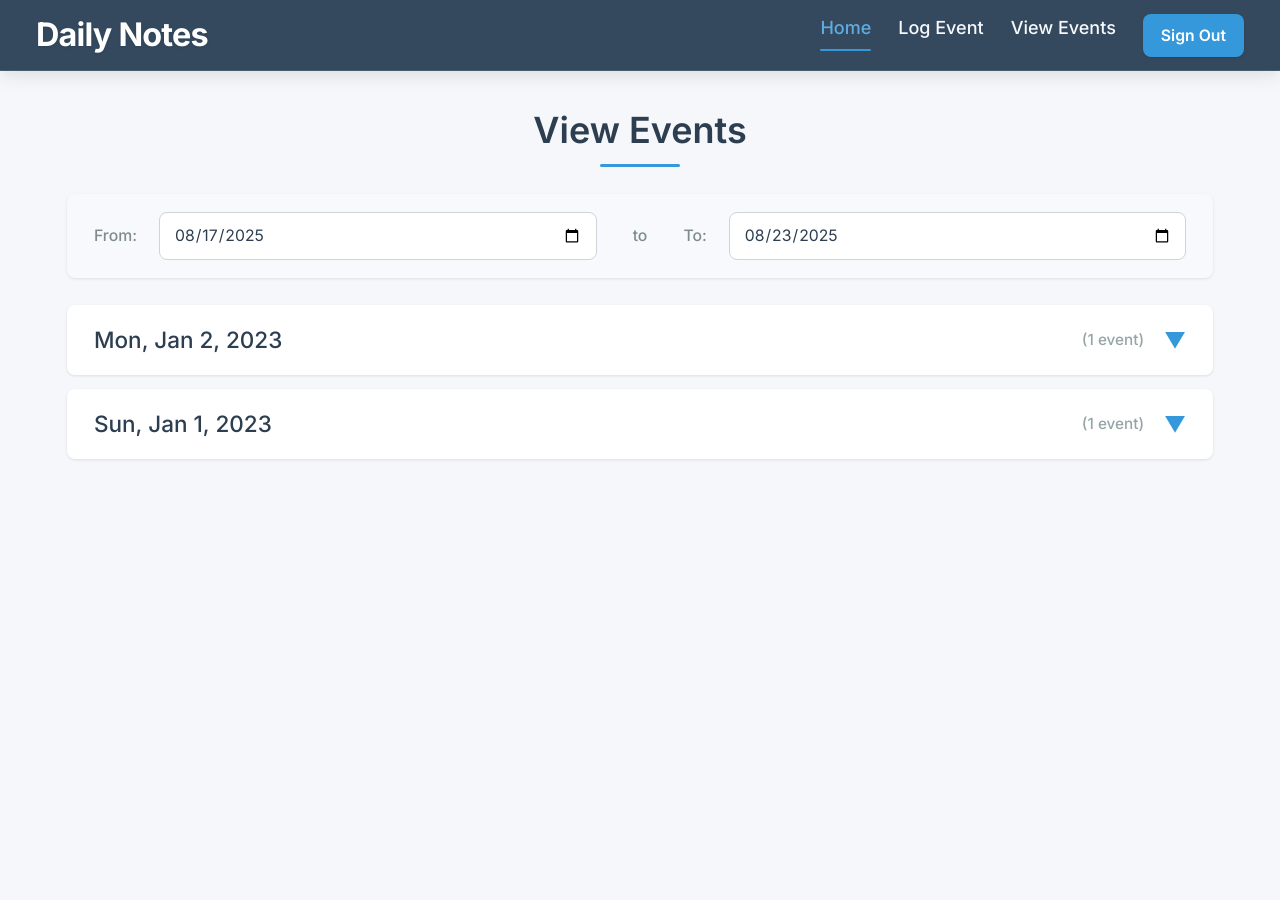
it: fetches and displays events
Click the button "Mon, Jan 2, 2023 (1 event) ▼" at [188, 340], box [67,305,1213,375]
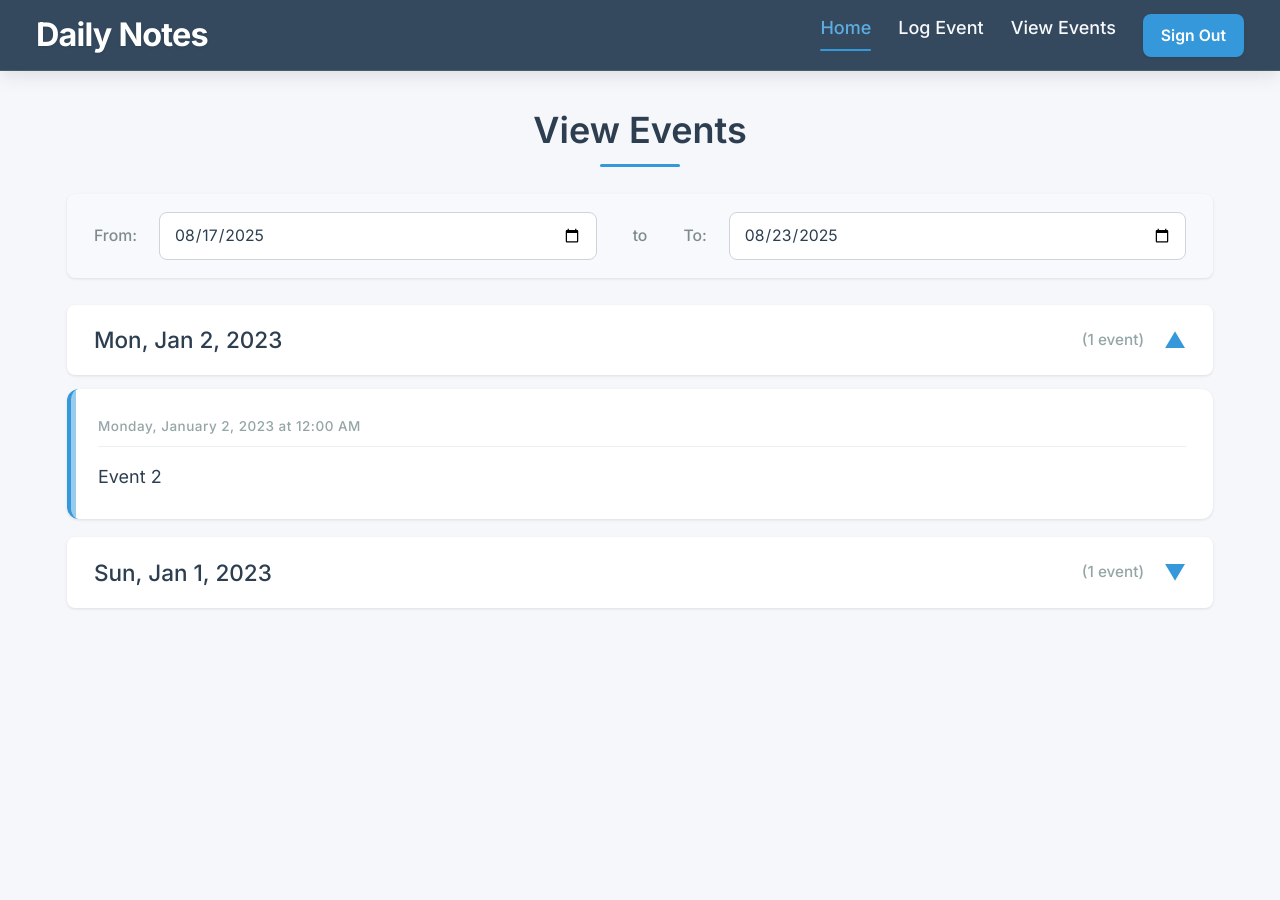
Click the button "Sun, Jan 1, 2023 (1 event) ▼" at [183, 572], box [67,537,1213,608]
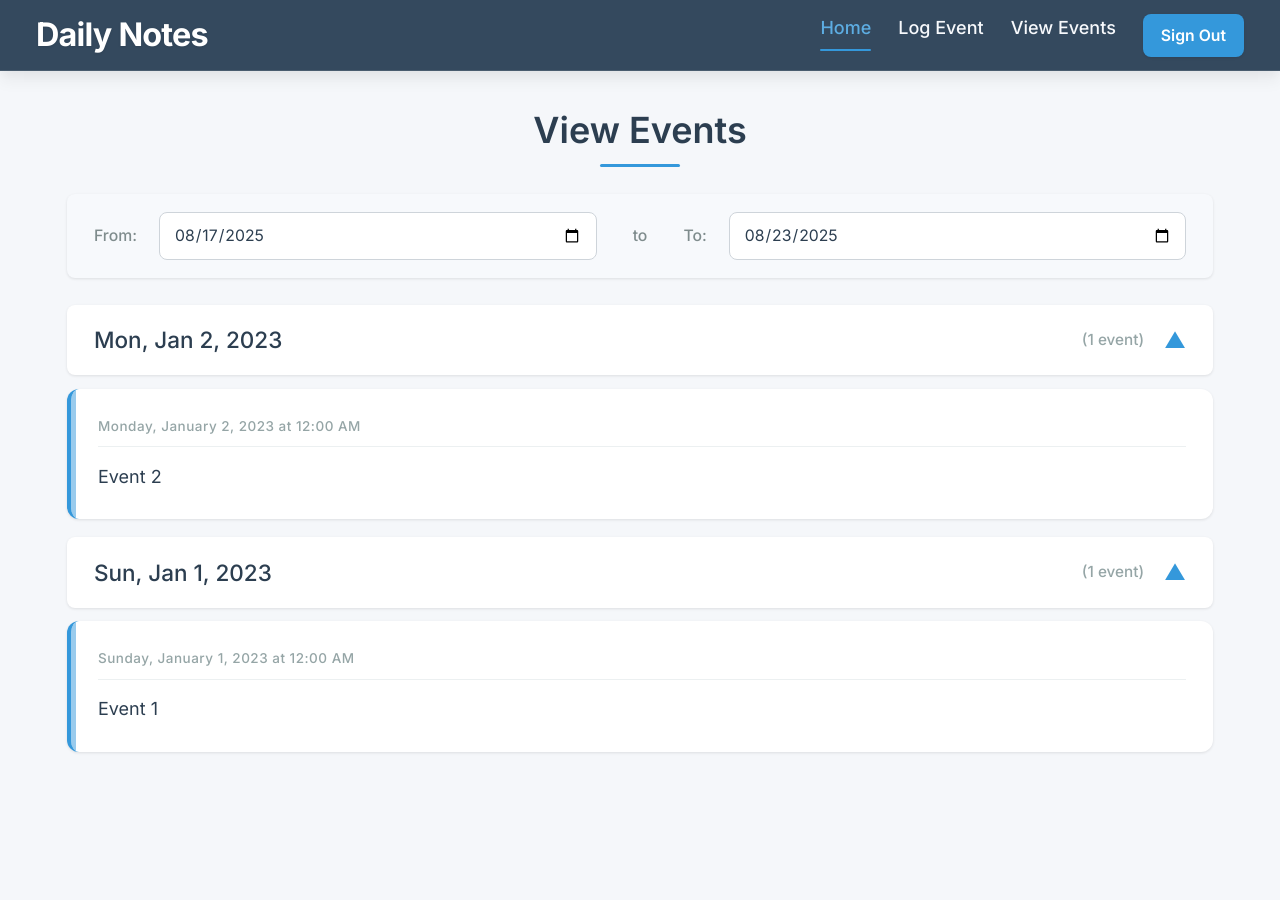
expect the text "Event 2" is shown: met, box [98,466,162,487]
expect the text "Event 1" is shown: met, box [98,698,158,720]
